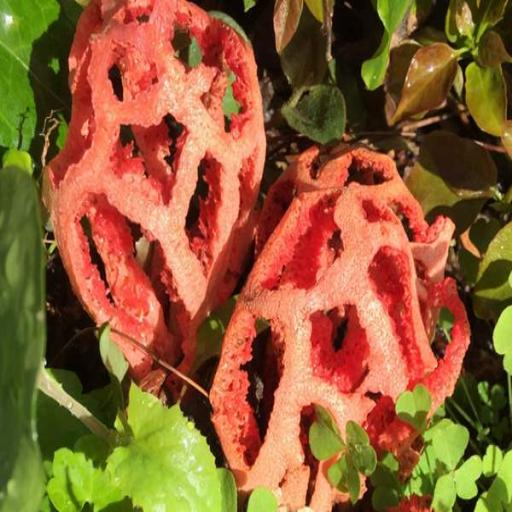Red Cage Fungus: (211, 139, 471, 512), (46, 0, 263, 413)
